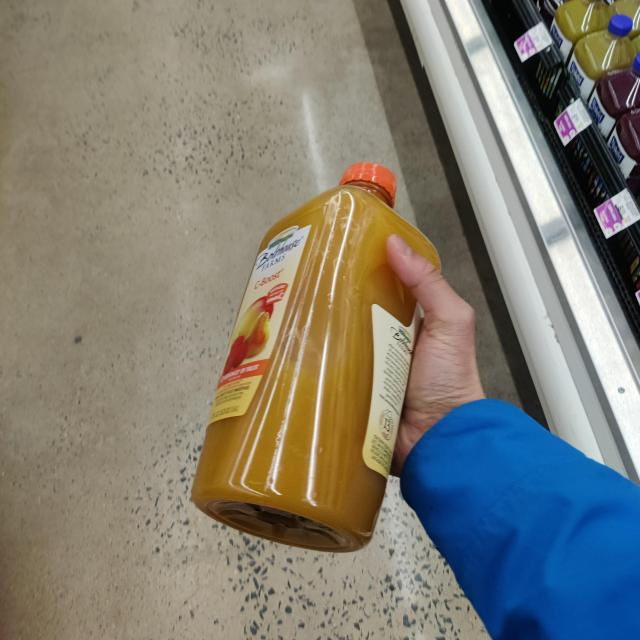Juice: (197, 162, 436, 553)
